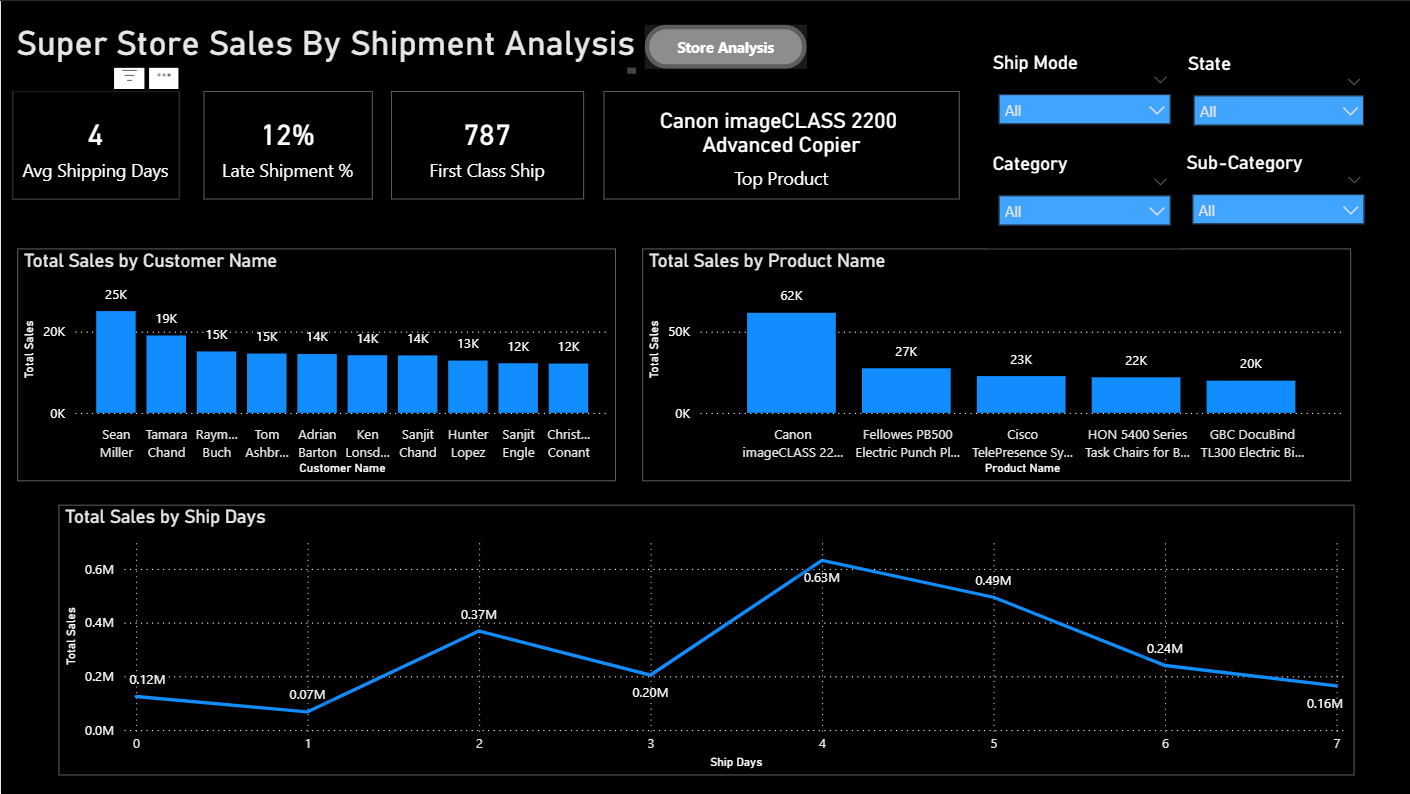

This screenshot's page, from the dashboard's own definition file:
{"tool":"powerbi","page":{"name":"Shipment Analysis","canvas":[1280,720],"ordinal":1},"visuals":[{"type":"card","fields":{"Values":["Sample - Superstore.Avg Shipping Days"]},"box":[10,81.7,151.7,98.3],"z":0},{"type":"card","fields":{"Values":["Sample - Superstore.Late Shipment %"]},"box":[183.3,81.7,153.3,98.3],"z":1000},{"type":"card","fields":{"Values":["Sample - Superstore.First Class Ship"]},"box":[353.3,81.7,175,98.3],"z":2000},{"type":"card","fields":{"Values":["Sample - Superstore.Top Product"]},"box":[546.7,81.7,323.3,98.3],"z":3000},{"type":"clusteredColumnChart","fields":{"Category":["Sample - Superstore.Customer Name"],"Y":["Sample - Superstore.Total Sales"]},"box":[15.1,225,543.4,211.3],"z":4000},{"type":"clusteredColumnChart","fields":{"Y":["Sample - Superstore.Total Sales"],"Category":["Sample - Superstore.Product Name"]},"box":[581.8,225,643.6,211.3],"z":5000},{"type":"lineChart","fields":{"Y":["Sample - Superstore.Total Sales"],"Category":["Sample - Superstore.Ship Days"]},"box":[52.1,456.9,1176,245.6],"z":6000},{"type":"slicer","title":"Ship Mode","fields":{"Values":["Sample - Superstore.Ship Mode"]},"box":[894.4,45.7,176.2,87.5],"z":7000},{"type":"textbox","title":"Super Store Sales By Shipment Analysis","box":[9.6,20.6,572.2,50.8],"z":8000,"group":"g1"},{"type":"slicer","title":"State","fields":{"Values":["Sample - Superstore.State"]},"box":[1071.5,46.1,175,86.7],"z":8000},{"type":"slicer","title":"Category","fields":{"Values":["Sample - Superstore.Category"]},"box":[894.4,137,176.2,87.5],"z":9000},{"type":"slicer","title":"Sub-Category","fields":{"Values":["Sample - Superstore.Sub-Category"]},"box":[1070.7,136.7,176.2,87.5],"z":10000},{"type":"group","id":"g1","title":"Group 1","box":[9.6,20.6,572.2,50.8],"z":11000},{"type":"actionButton","box":[587.3,22,146.8,39.8],"z":12000}]}

Visuals, with their boxes in screenshot pixels (x1, y1, x2, y2), scaled from the page's 1280x720 canvas onto the 1410x794 screenshot:
card - Sample - Superstore.Avg Shipping Days: [left=11, top=90, right=178, bottom=198]
card - Sample - Superstore.Late Shipment %: [left=202, top=90, right=371, bottom=198]
card - Sample - Superstore.First Class Ship: [left=389, top=90, right=582, bottom=198]
card - Sample - Superstore.Top Product: [left=602, top=90, right=958, bottom=198]
clusteredColumnChart - Sample - Superstore.Customer Name x Sample - Superstore.Total Sales: [left=17, top=248, right=615, bottom=481]
clusteredColumnChart - Sample - Superstore.Total Sales x Sample - Superstore.Product Name: [left=641, top=248, right=1350, bottom=481]
lineChart - Sample - Superstore.Total Sales x Sample - Superstore.Ship Days: [left=57, top=504, right=1353, bottom=775]
"Ship Mode" slicer: [left=985, top=50, right=1179, bottom=147]
"Super Store Sales By Shipment Analysis" textbox: [left=11, top=23, right=641, bottom=79]
"State" slicer: [left=1180, top=51, right=1373, bottom=146]
"Category" slicer: [left=985, top=151, right=1179, bottom=248]
"Sub-Category" slicer: [left=1179, top=151, right=1374, bottom=247]
"Group 1" group: [left=11, top=23, right=641, bottom=79]
actionButton: [left=647, top=24, right=809, bottom=68]
